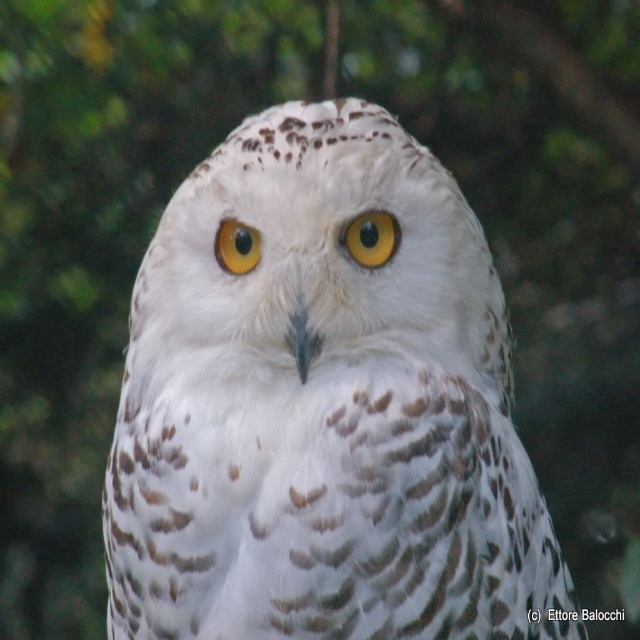Owl: (103, 97, 589, 640)
